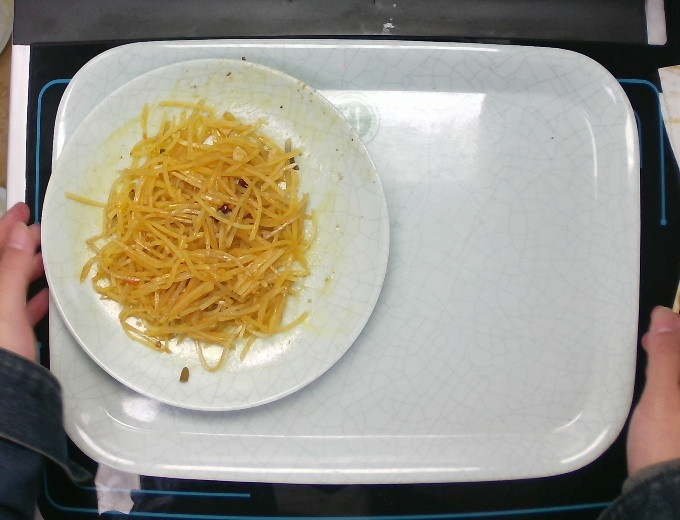JYsf-Da_Yuan_Pan: (39, 55, 393, 414)
